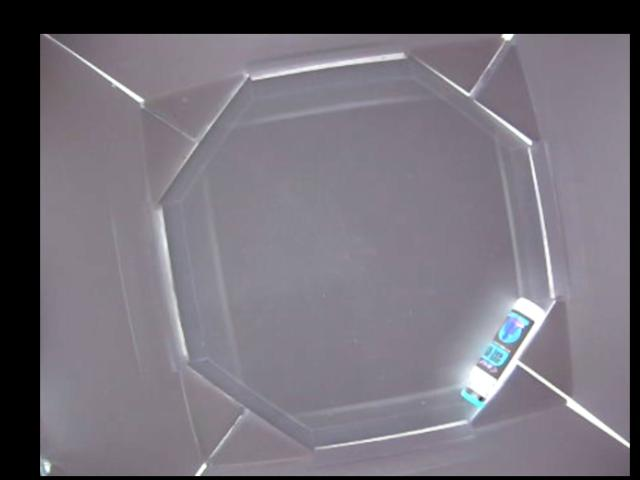Medicine: (461, 298, 546, 405)
